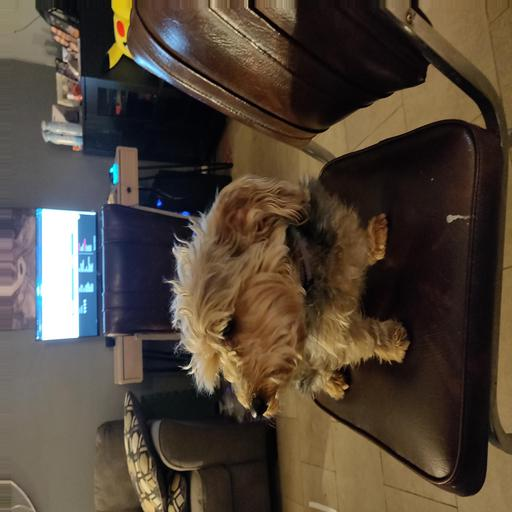dog: (166, 173, 408, 415)
